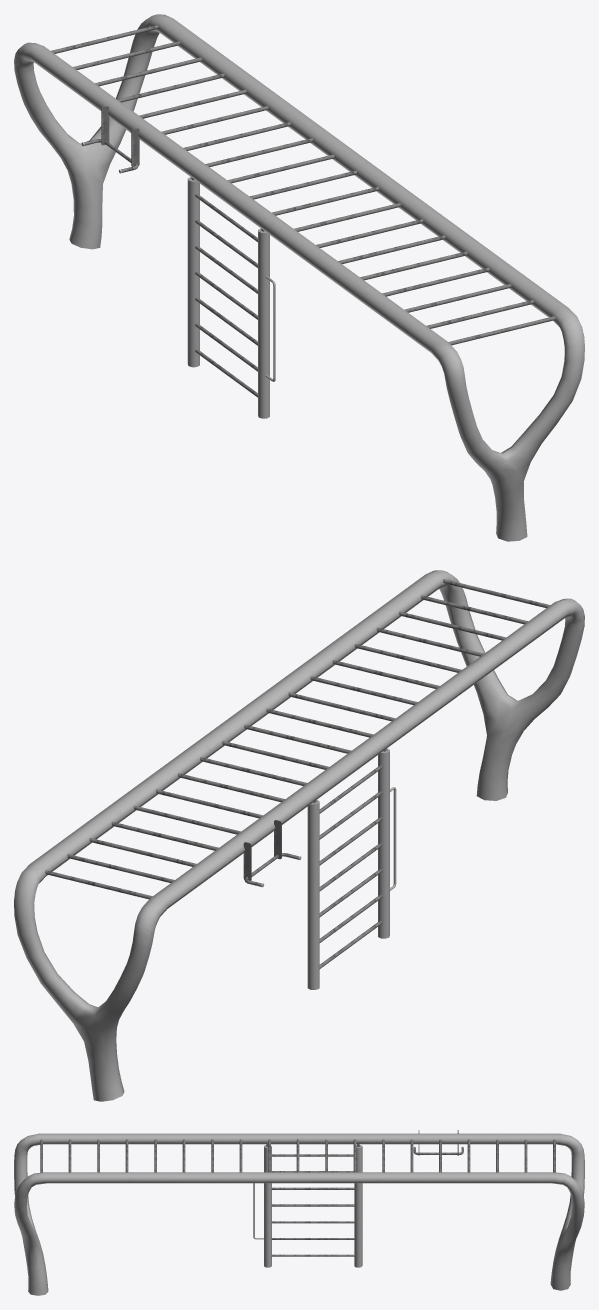
The model's file is MB_Street_Workout.fbx.
The picture shows the model from 3 angles, top to bottom: view 1: azimuth 30°, elevation 25°; view 2: azimuth 150°, elevation 25°; view 3: azimuth 270°, elevation 25°; orthographic projection. The views are drawn at different scales.
Visible parts, largest first — view 1: MB_Street_Workout_LOD0; view 2: MB_Street_Workout_LOD0; view 3: MB_Street_Workout_LOD0.
Boxes of the visible parts, box(x1,y1,x2,y2) form: MB_Street_Workout_LOD0: box(14, 14, 584, 541); MB_Street_Workout_LOD0: box(14, 570, 584, 1101); MB_Street_Workout_LOD0: box(14, 1130, 584, 1295).
Size of what is drawn, in the model's own units: 191 by 237 by 890.
